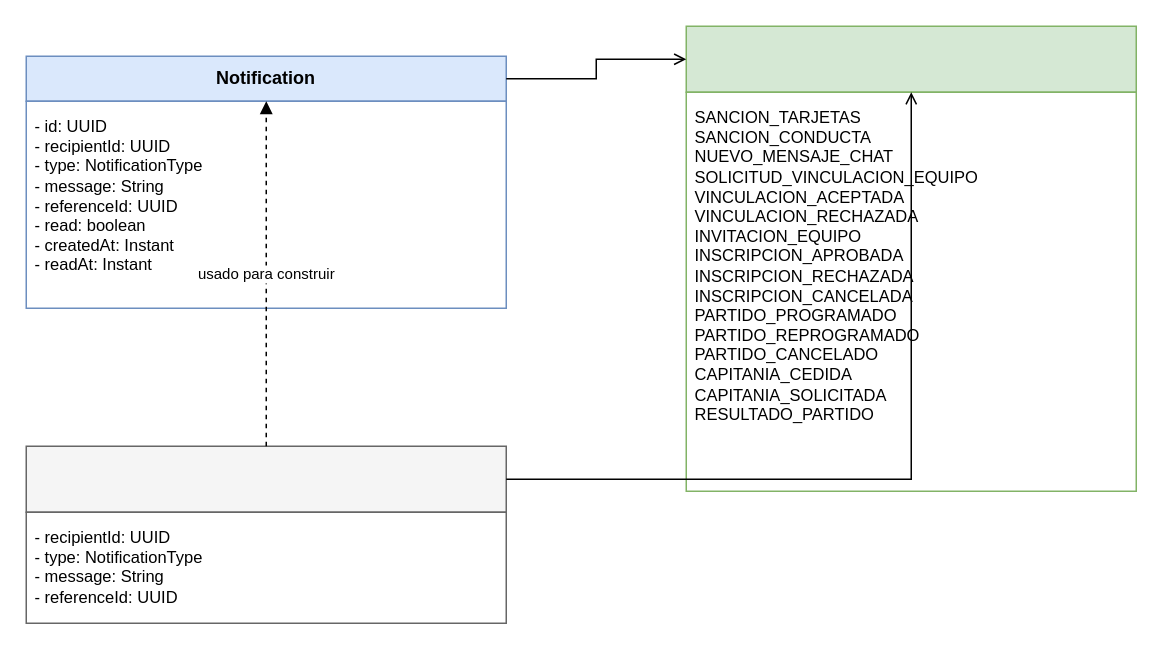
Image size: 1163x650. Some labels were removed from this diagram. Each missing label, with the centre of its shape:
"«enumeration» NotificationType" goes at (910,58).
"«record» CreateNotificationCommand" goes at (265,478).
